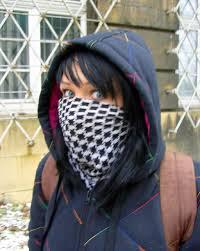OK: (56, 77, 131, 153)
